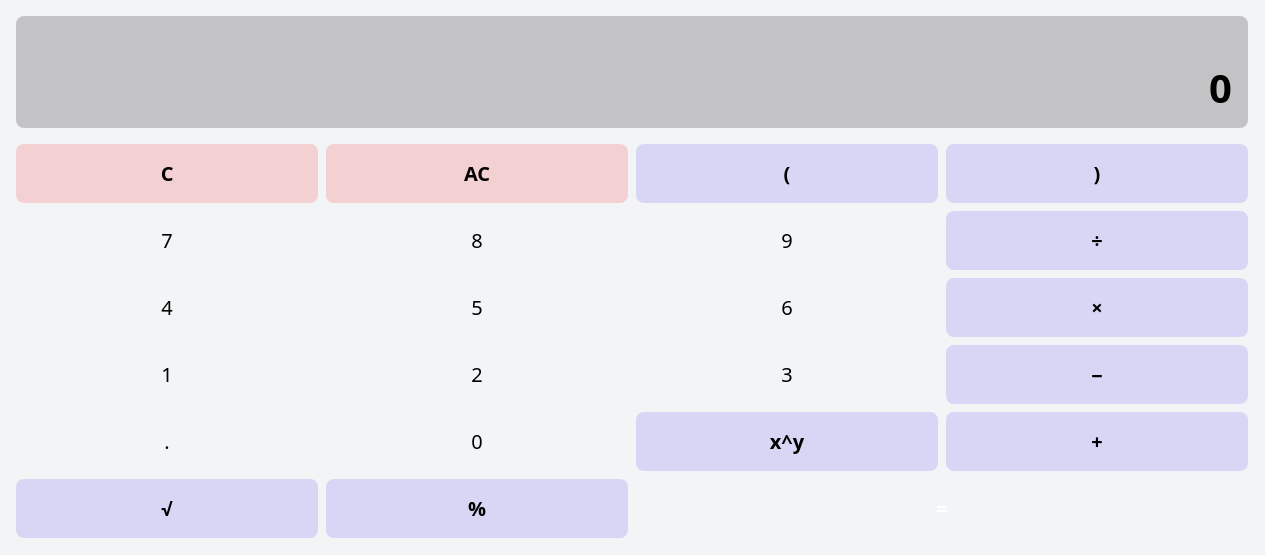
Test case: Calculator UI & State › auto-calculates on consecutive operators and replaces consecutive operators
Click the button "5" at (477, 308), box [326,278,628,337]
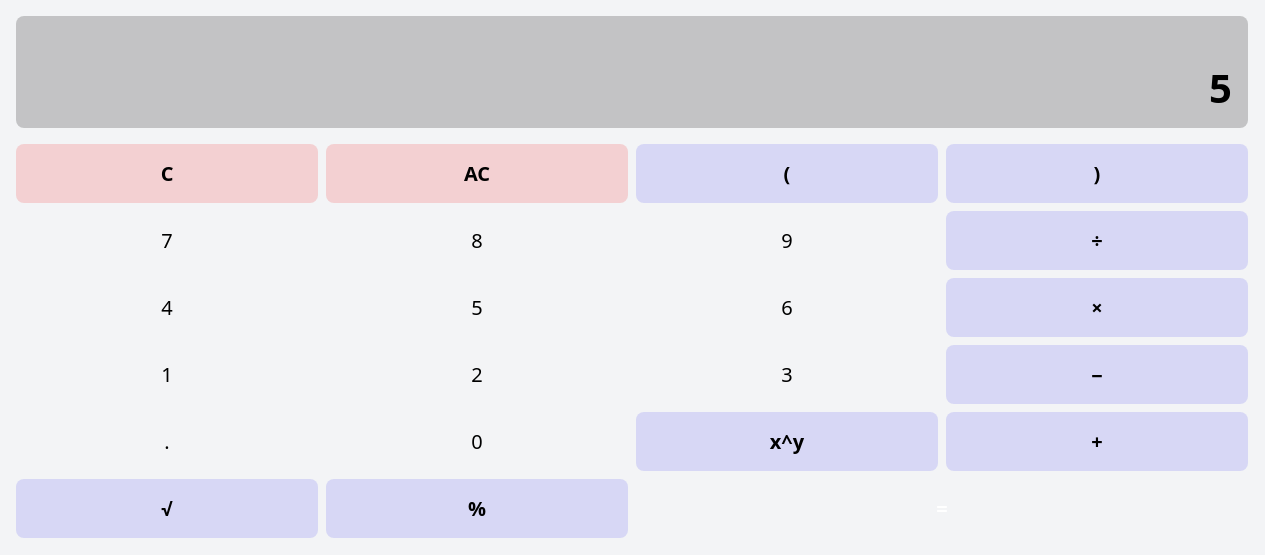
Click the button "+" at (1097, 442), box [946,412,1248,471]
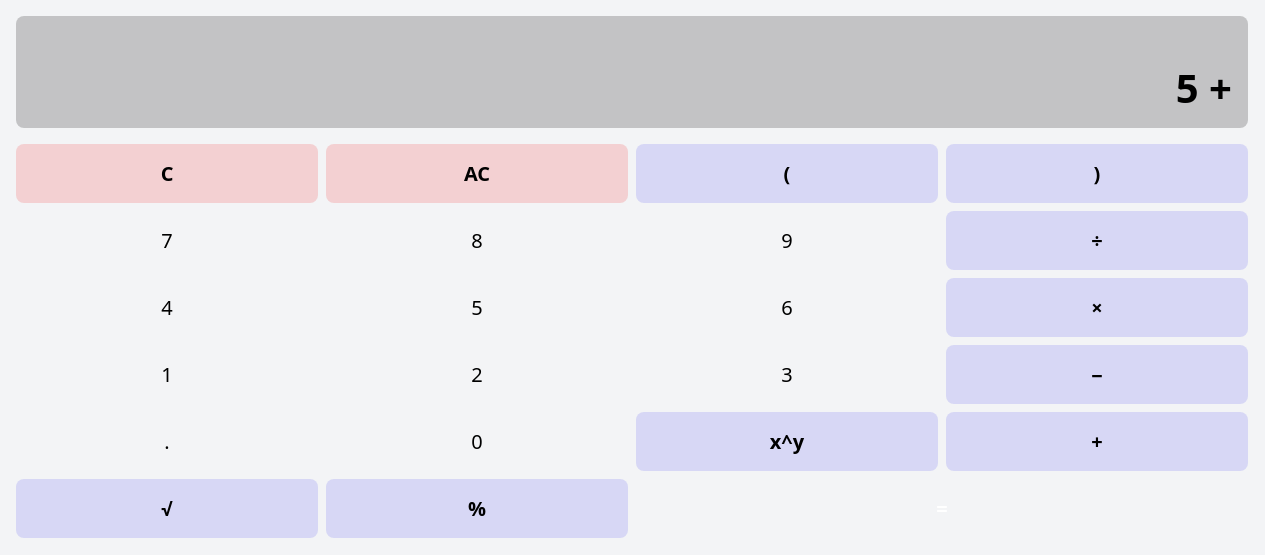
Click the button "5" at (477, 308), box [326,278,628,337]
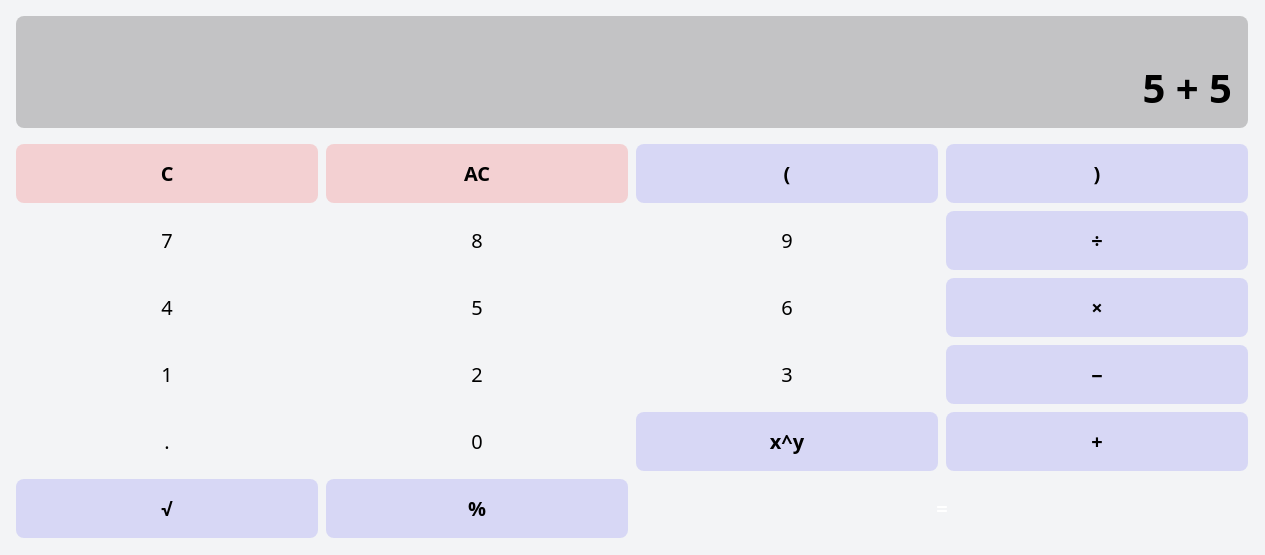
Click the button "×" at (1097, 308), box [946,278,1248,337]
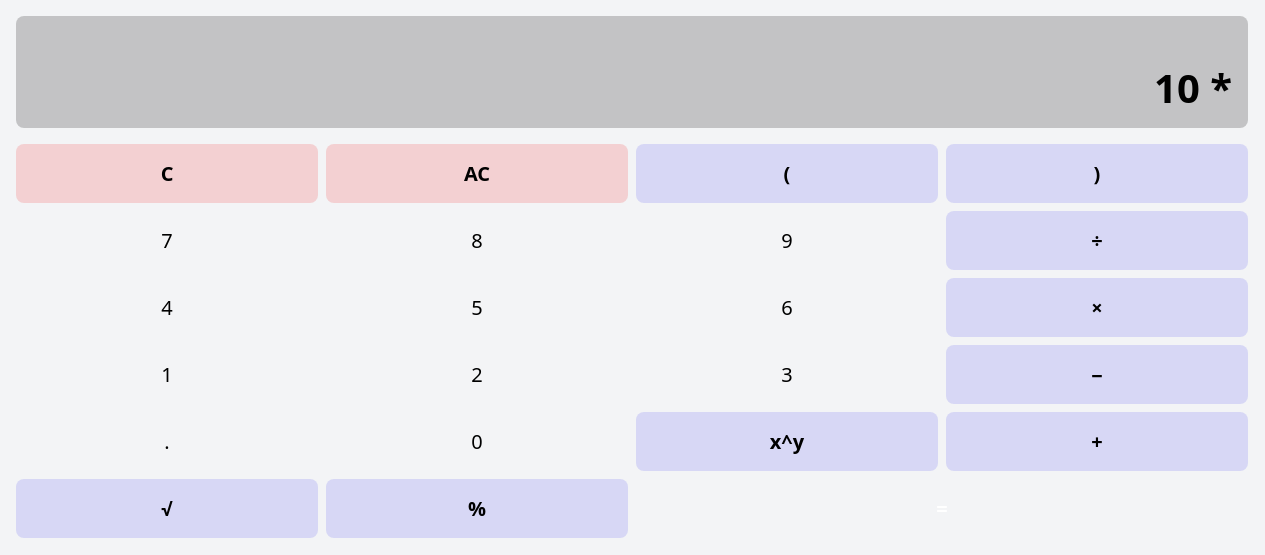
Expected: the text "10 *" is shown, [1154,60,1232,115]
Click the button "−" at (1097, 374), box [946,345,1248,404]
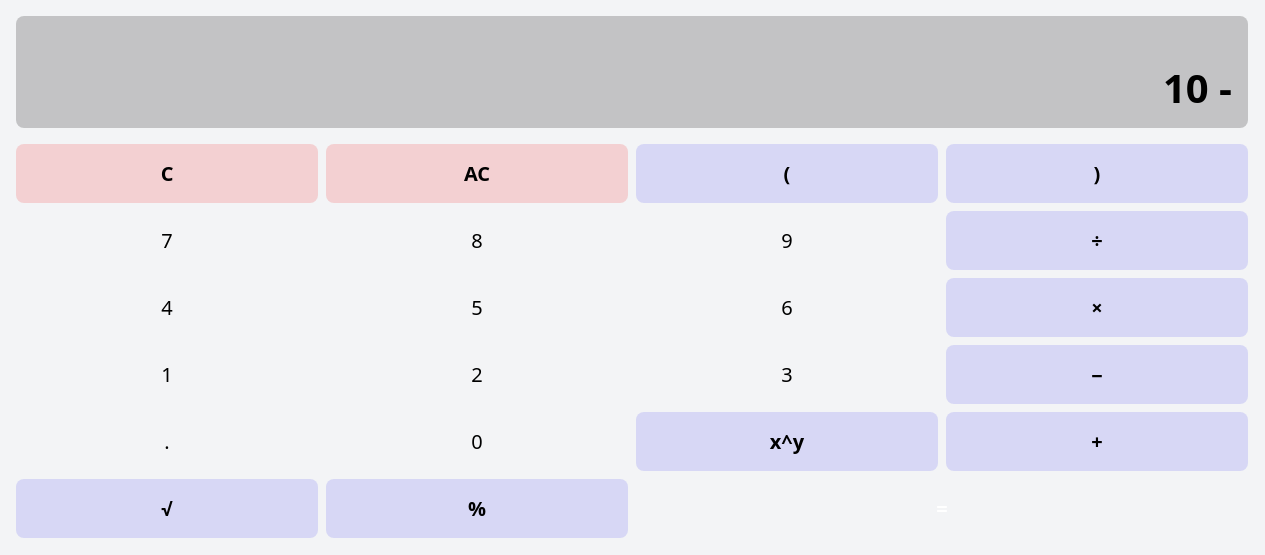
Expected: the text "10 -" is shown, [1163,60,1232,115]
